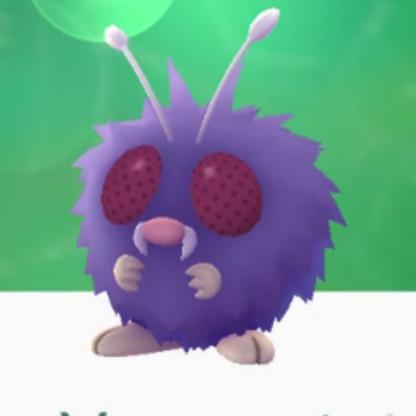Venonat: (50, 6, 344, 373)
